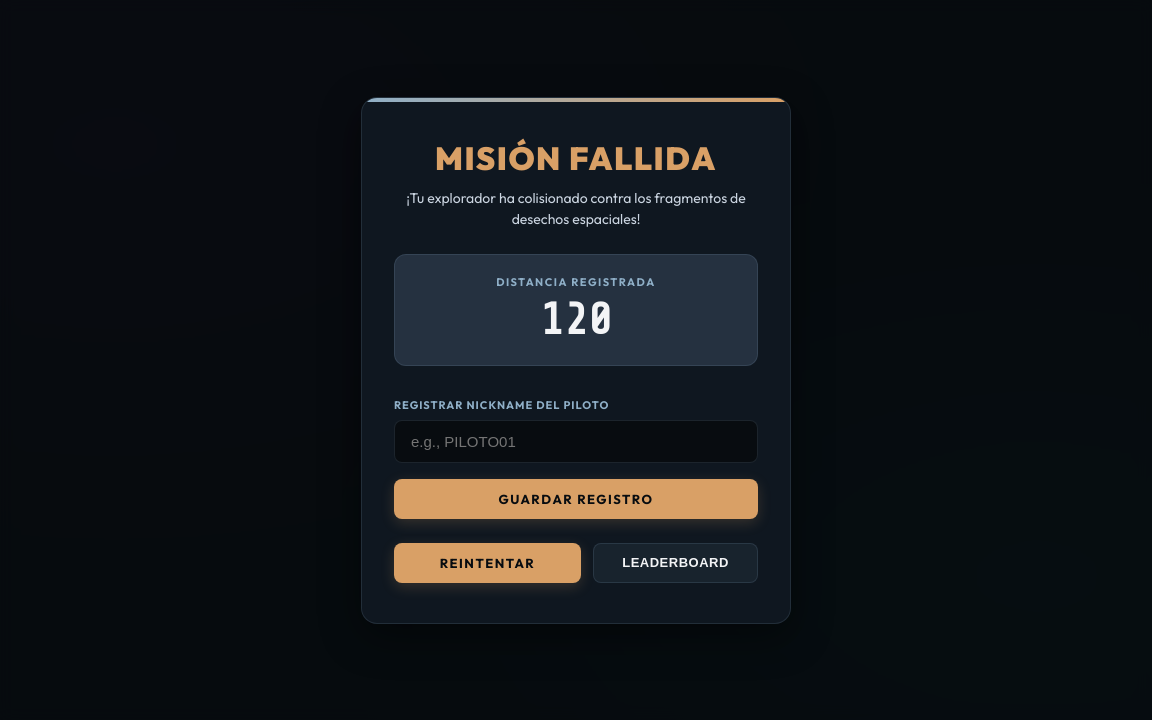
it: React Component Rendering & Transitions › should prompt validation errors for short nicknames inside the GameOverModal
Expected: the text "120" is shown, [540, 294, 612, 344]
Enter an invalid 2-char nick and submit
Type "JD" into the field labelled "Registrar Nickname del Piloto" at (576, 441), box [394, 420, 758, 462]
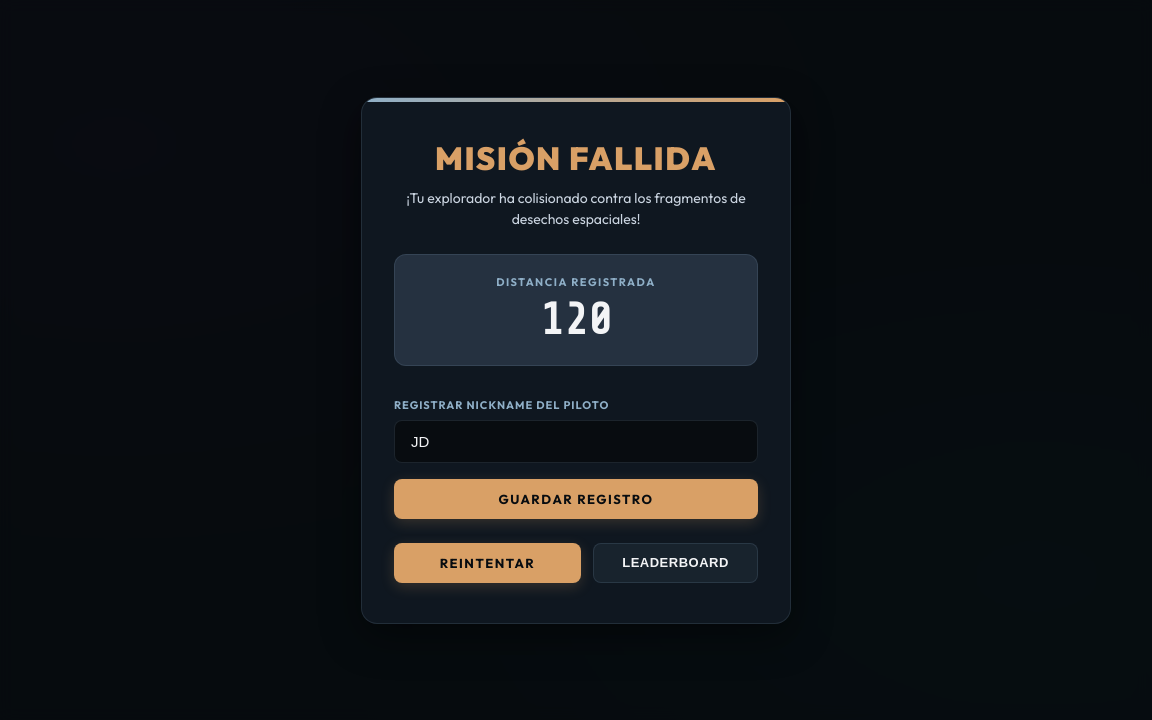
Click the button "Guardar Registro" at (576, 498), box [394, 478, 758, 518]
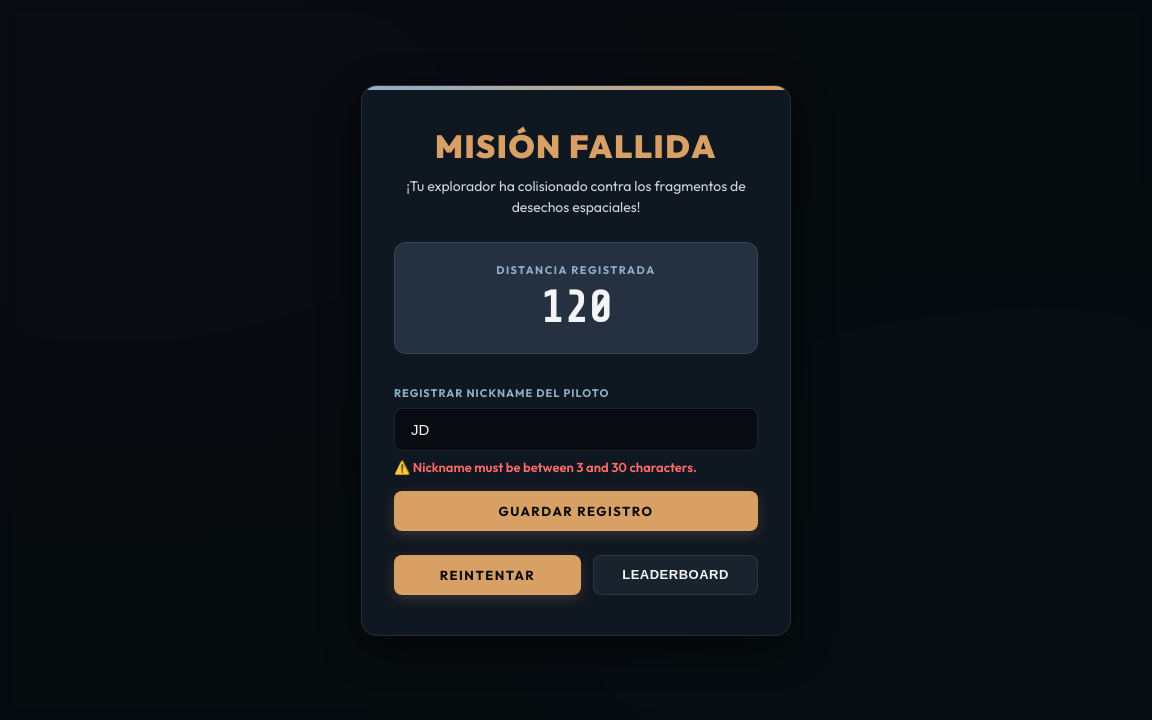
Expected: the text "⚠️ Nickname must be between 3 and 30 characters." is shown, [394, 458, 697, 474]
Expected: the text with test id "error-message" shows "between 3 and 30 characters", [413, 458, 697, 474]
